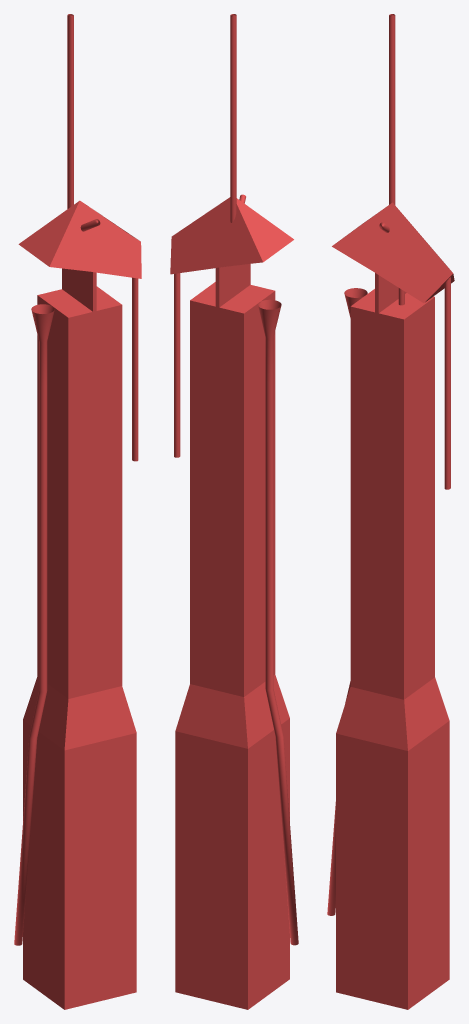
Rendered from PanteraRosa.glb.
3 renders of one model, left to right at view 1: azimuth 30°, elevation 25°; view 2: azimuth 150°, elevation 25°; view 3: azimuth 330°, elevation 25°, orthographic.
Visible parts, largest first — view 1: Cylinder.004, Cylinder; view 2: Cylinder.004, Cylinder; view 3: Cylinder.004, Cylinder.
Part boxes in pixels (x1,y1,x2,y2): Cylinder.004: (18,14,141,1009); Cylinder: (14,304,54,945); Cylinder.004: (170,14,293,1009); Cylinder: (258,299,298,945); Cylinder.004: (332,14,454,1009); Cylinder: (327,288,367,915).
Bounding box in the file's own units: 3.49 × 25.63 × 2.
